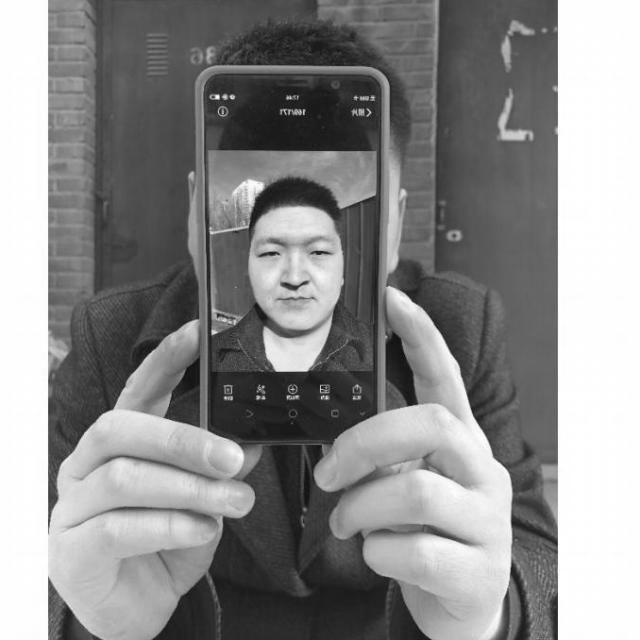fake: (192, 62, 392, 450)
